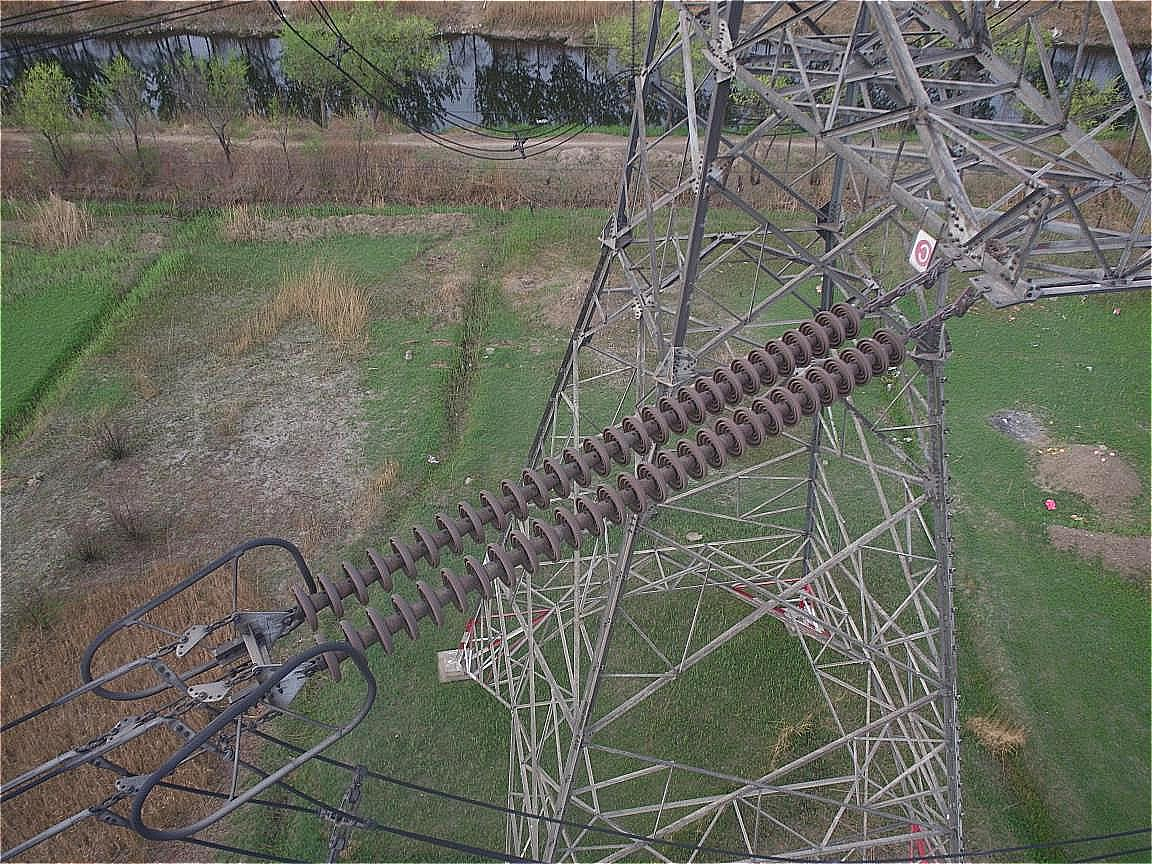insultor1: (286, 285, 928, 694)
